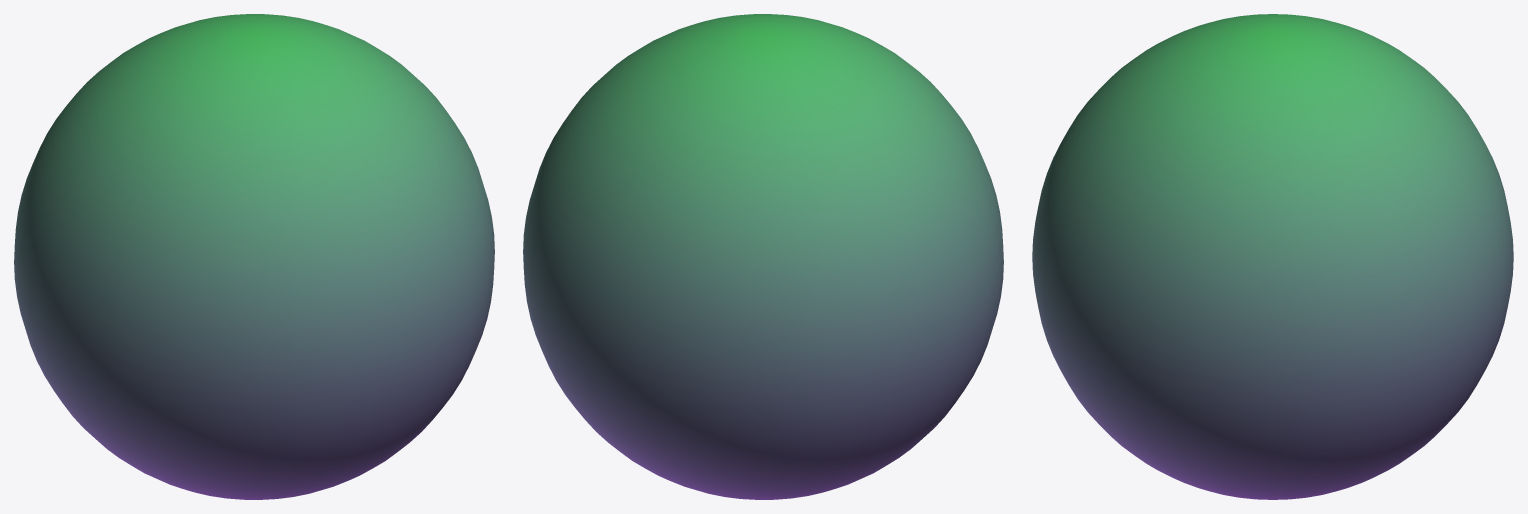
Rendered from itembubble.fbx.
3 renders of one model, left to right at view 1: azimuth 30°, elevation 25°; view 2: azimuth 150°, elevation 25°; view 3: azimuth 270°, elevation 25°, orthographic.
Parts seen in each view (by area): view 1: pSphere1; view 2: pSphere1; view 3: pSphere1.
Boxes of the visible parts, x1=… form: pSphere1: x1=14, y1=14, x2=494, y2=499; pSphere1: x1=523, y1=14, x2=1003, y2=499; pSphere1: x1=1032, y1=14, x2=1513, y2=499.
Bounding box in the file's own units: 11.47 × 11.64 × 11.47.
